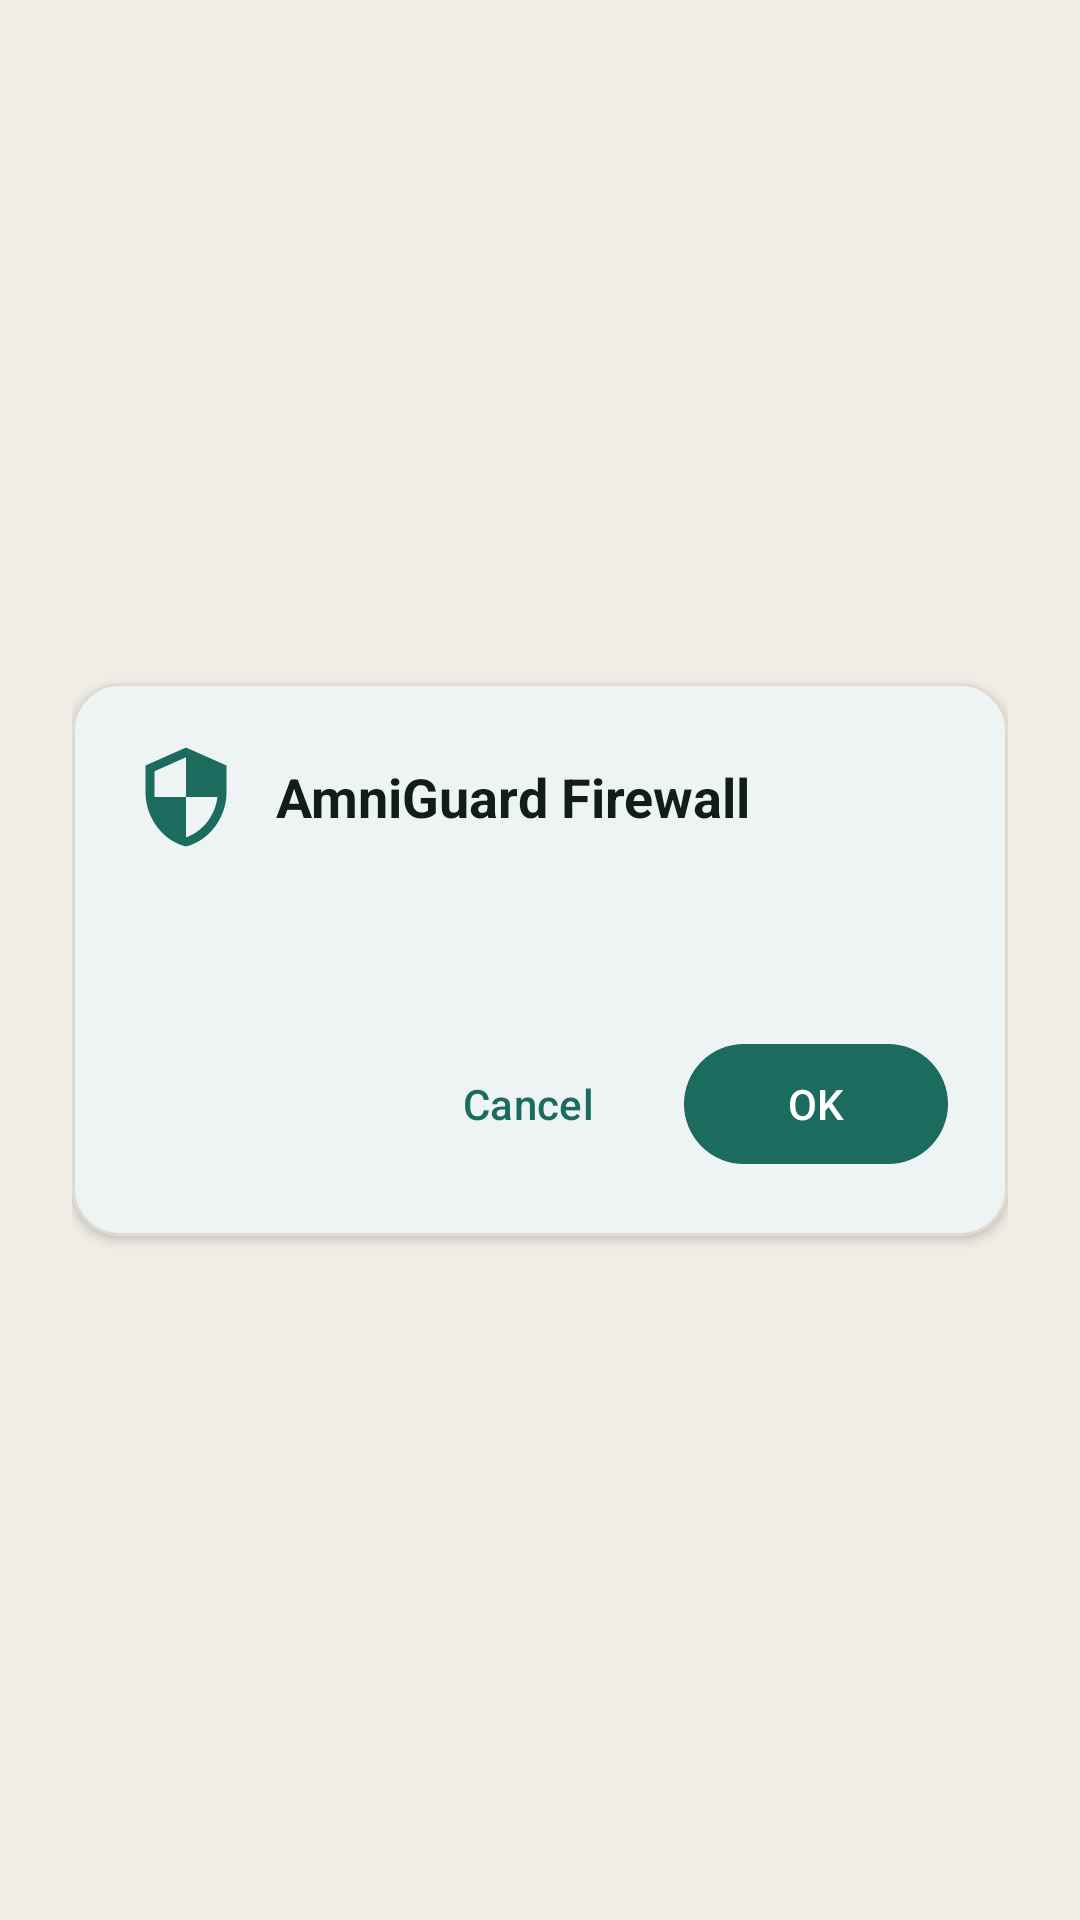

Point at icon controls on the screen. Image size 1080px×1920px, points as point (x, y).
shield: point (186, 797)
